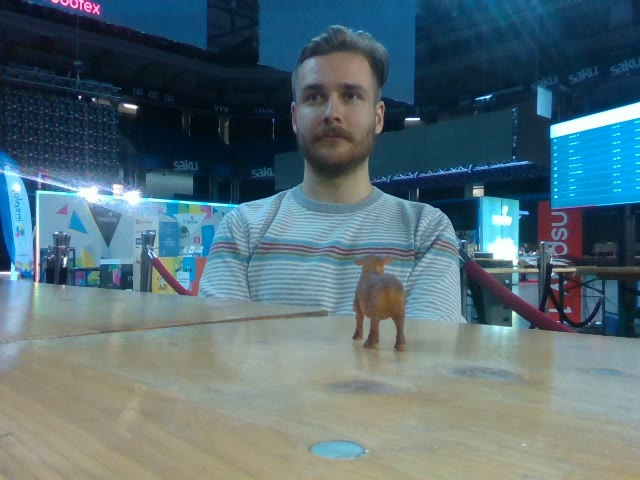toy: (352, 255, 407, 350)
